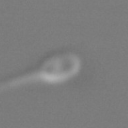normal: (1, 69, 40, 93)
